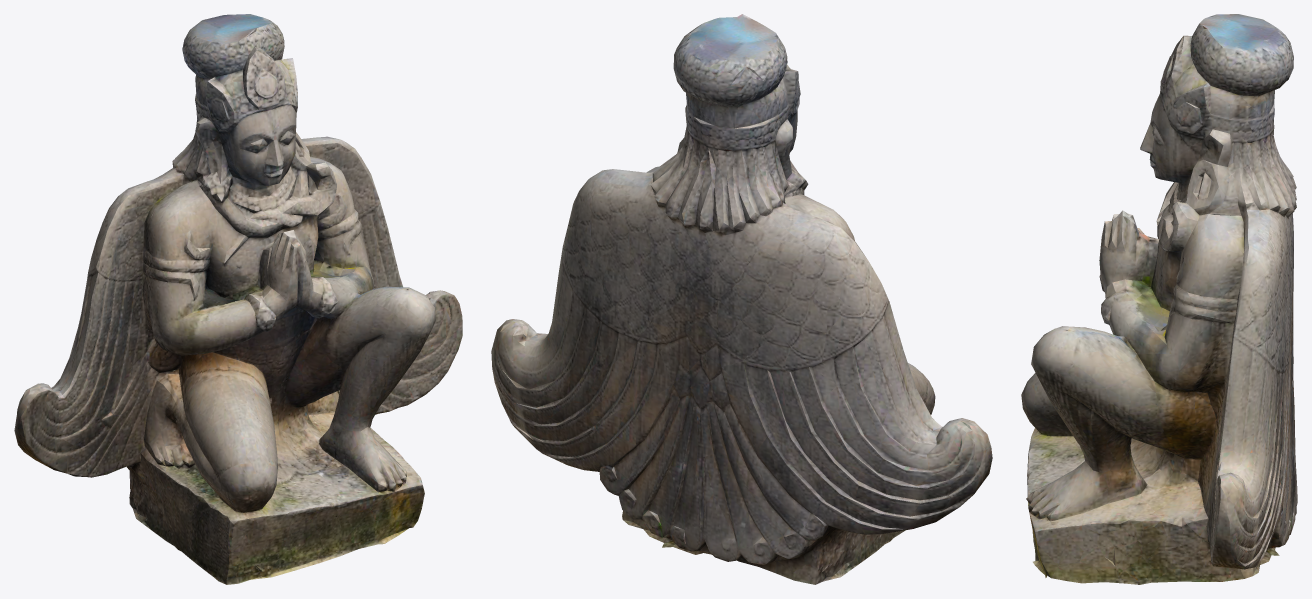
File: Stone Garuda.glb
3 views of the same model, side by side, from view 1: azimuth 30°, elevation 25°; view 2: azimuth 150°, elevation 25°; view 3: azimuth 270°, elevation 25° (orthographic). The views are drawn at different scales.
Visible parts, largest first — view 1: Object_2; view 2: Object_2; view 3: Object_2.
Part boxes in pixels (bbox=[...]): Object_2: bbox=[14, 14, 462, 584]; Object_2: bbox=[491, 14, 992, 584]; Object_2: bbox=[1021, 14, 1297, 584].
Bounding box in the file's own units: 39.06 × 39.85 × 19.19.
Materials: 1 (1 with a texture image).
